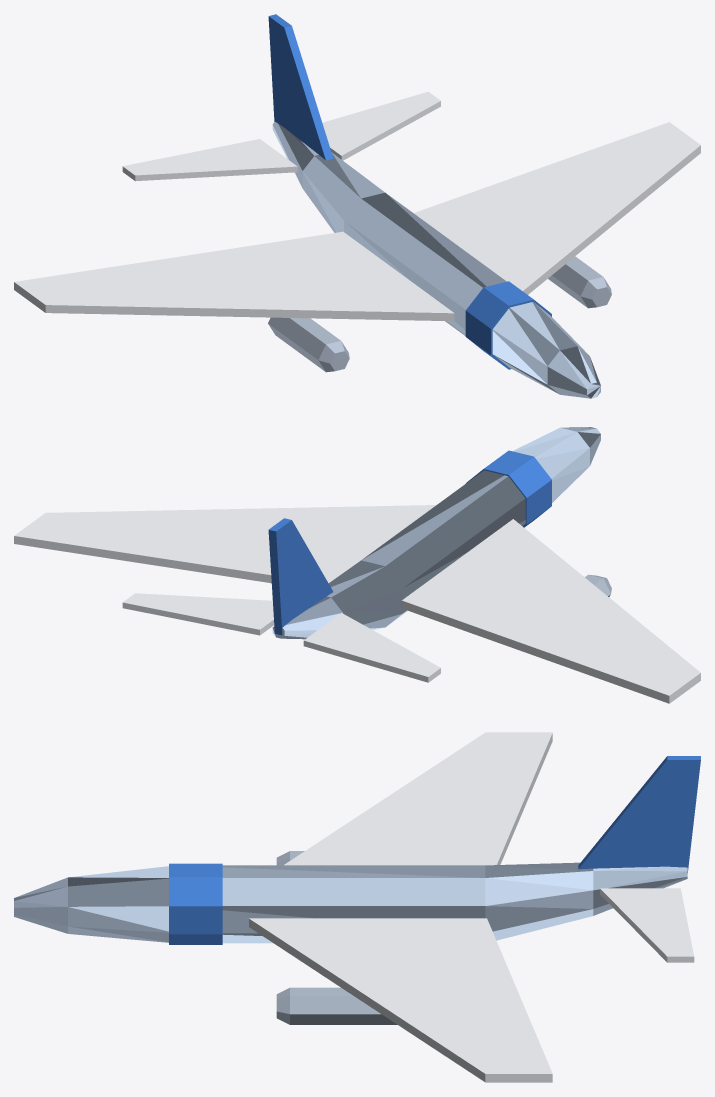
The model's file is Plane_Airliner.obj.
The picture shows the model from 3 angles, top to bottom: view 1: azimuth 30°, elevation 25°; view 2: azimuth 150°, elevation 25°; view 3: azimuth 270°, elevation 25°; orthographic projection. The views are drawn at different scales.
Visible parts, largest first — view 1: WingL, WingR, Fuselage, Fin, TailplaneL, TailplaneR, Band, WingL_Engine, WingR_Engine; view 2: WingL, WingR, Fuselage, Fin, TailplaneL, TailplaneR, Band; view 3: Fuselage, WingR, WingL, Fin, Band, TailplaneR, WingR_Engine.
Boxes of the visible parts, box(x1,y1,x2,y2) form: WingL: box(14, 231, 454, 321); WingR: box(414, 122, 700, 294); Fuselage: box(272, 122, 600, 398); Fin: box(268, 14, 333, 160); TailplaneL: box(122, 139, 297, 181); TailplaneR: box(322, 91, 440, 160); Band: box(465, 281, 551, 369); WingL_Engine: box(268, 317, 349, 372); WingR_Engine: box(548, 256, 611, 308); WingL: box(401, 519, 700, 703); WingR: box(14, 505, 436, 583); Fuselage: box(272, 427, 600, 639); Fin: box(268, 518, 333, 635); TailplaneL: box(303, 613, 440, 682); TailplaneR: box(122, 593, 274, 635); Band: box(466, 450, 551, 527); Fuselage: box(14, 862, 687, 943); WingR: box(249, 918, 552, 1082); WingL: box(284, 732, 552, 865); Fin: box(578, 756, 700, 872); Band: box(169, 863, 222, 944); TailplaneR: box(600, 888, 694, 962); WingR_Engine: box(276, 987, 397, 1024).
Bounding box in the file's own units: 12 × 3.19 × 10.2.
